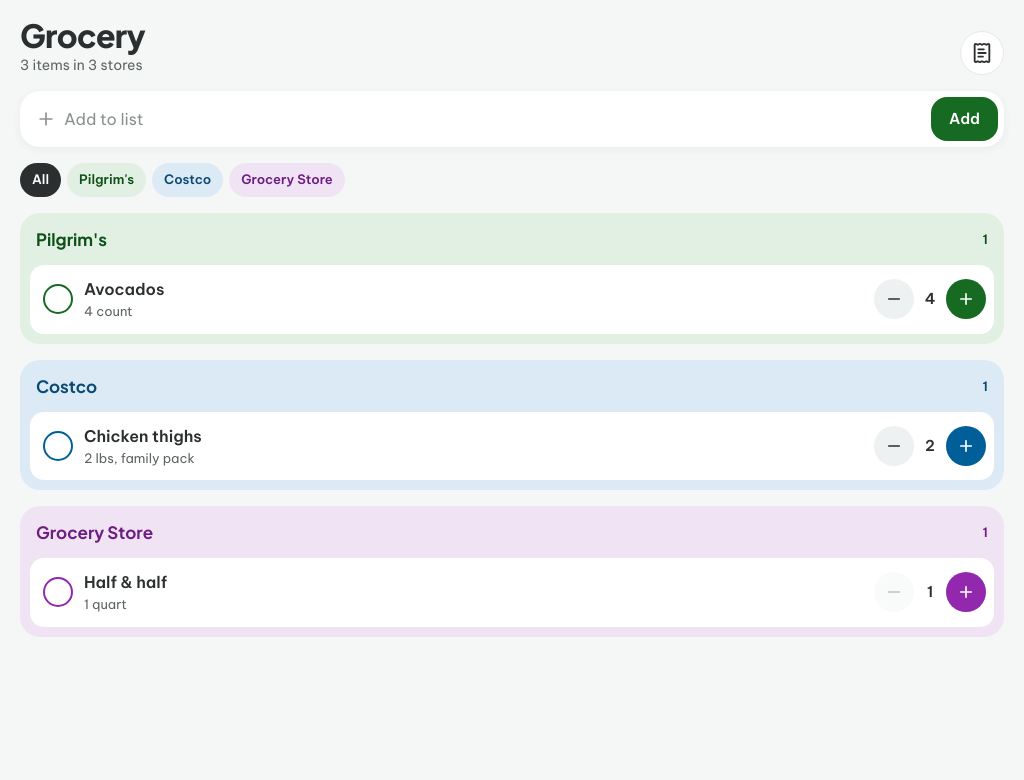
Scenario: GroceryPage › add-bar suggestions are plain buttons in a labelled list, not a fake listbox
The image size is (1024, 780).
Check: the text "Avocados" is shown, box x1=84 y1=279 x2=164 y2=299
Type "mil" into the field labelled "Add to list". click: (494, 119)
box: x1=64 y1=97 x2=923 y2=141
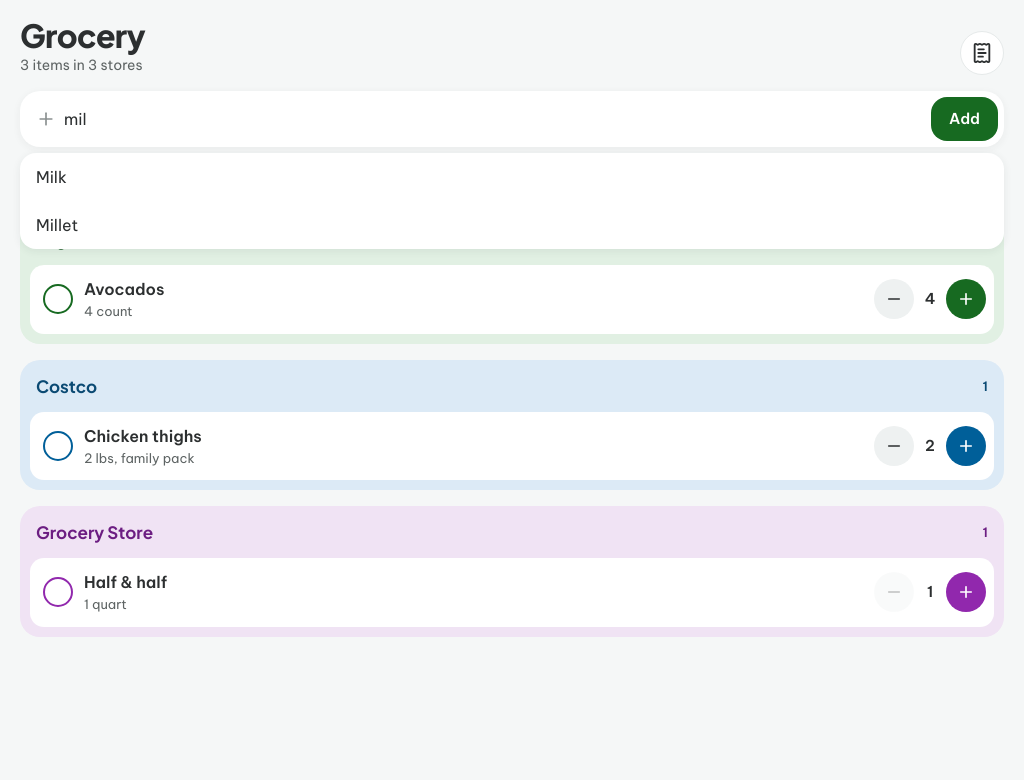
Check: the buttons read "Milk", "Millet", in this order, box x1=20 y1=153 x2=1004 y2=201; x1=20 y1=201 x2=1004 y2=249
